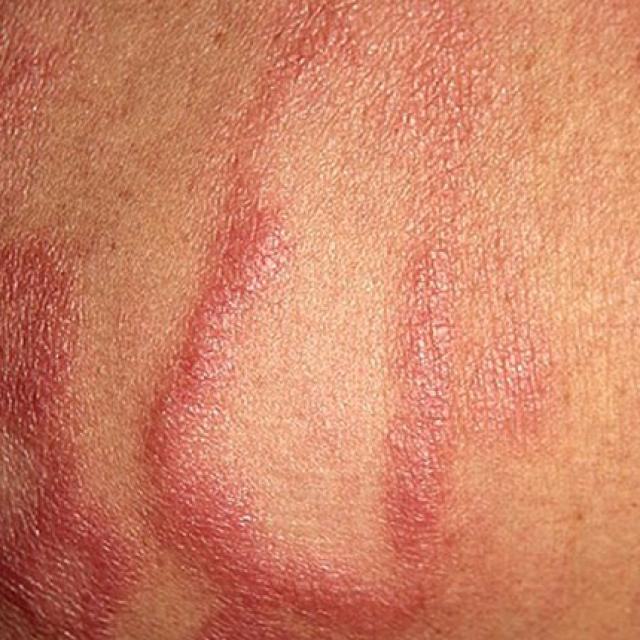Leprosy: (135, 0, 551, 640), (0, 220, 135, 640), (0, 0, 110, 176)
